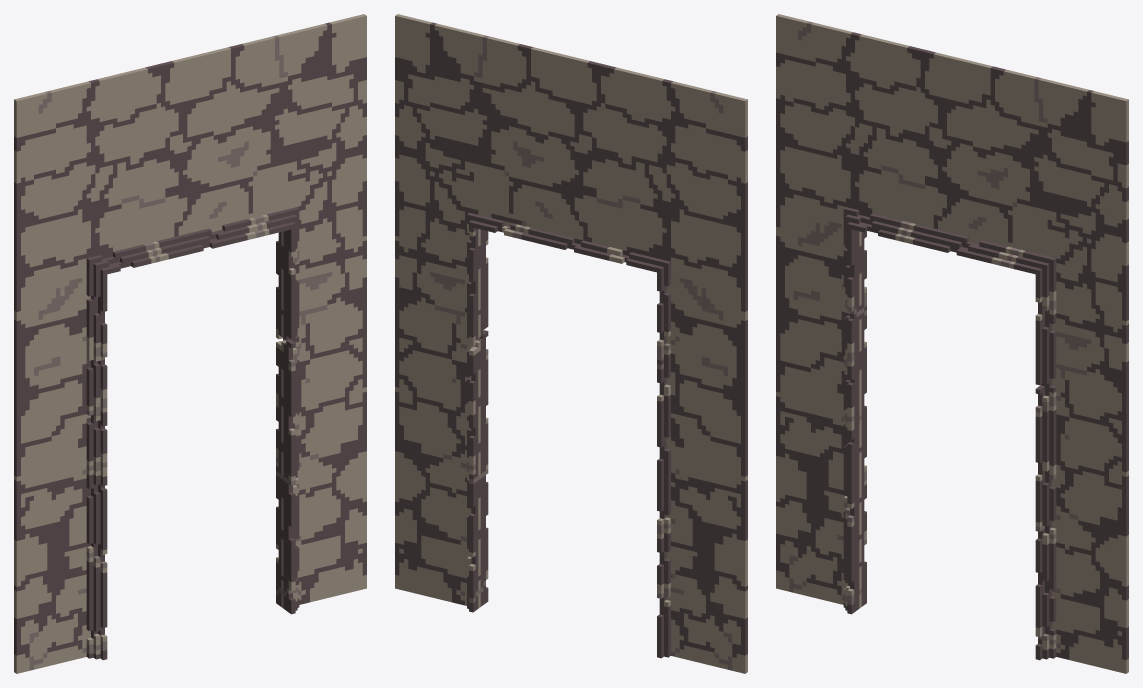
File: paredMarronConBordes-3.obj
3 renders of one model, left to right at view 1: azimuth 30°, elevation 25°; view 2: azimuth 150°, elevation 25°; view 3: azimuth 330°, elevation 25°, orthographic.
Bounding box in the file's own units: 8 × 12.5 × 0.6.
1 material, 1 textured.
